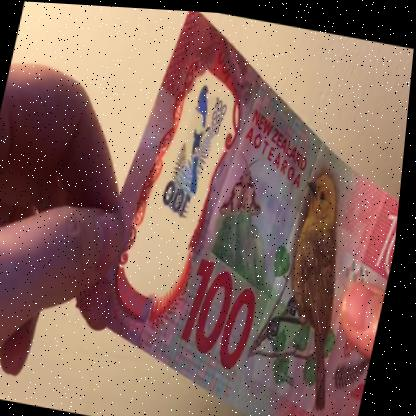100B: (156, 69, 236, 249)
